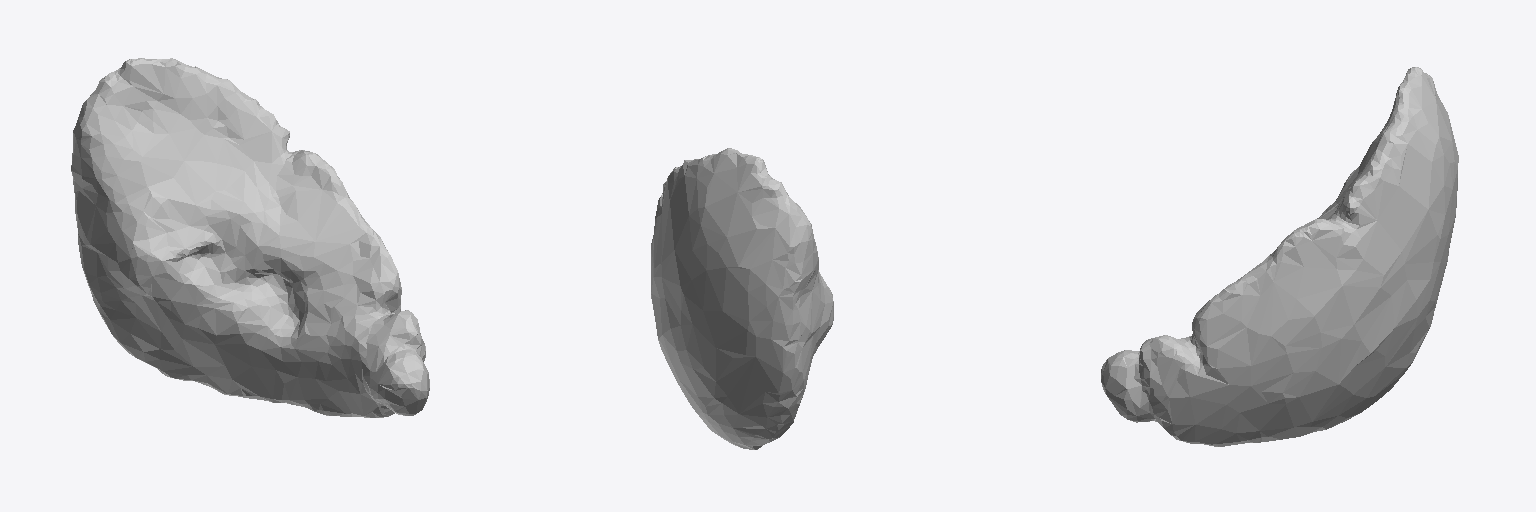
3 views of the same model, side by side, from view 1: azimuth 30°, elevation 25°; view 2: azimuth 150°, elevation 25°; view 3: azimuth 270°, elevation 25° (orthographic).
Visible parts, largest first — view 1: Polygonal_Model_5_Triangles_0; view 2: Polygonal_Model_5_Triangles_0; view 3: Polygonal_Model_5_Triangles_0.
Part boxes in pixels (x1,y1,x2,y2): Polygonal_Model_5_Triangles_0: (71,58,429,417); Polygonal_Model_5_Triangles_0: (651,148,833,449); Polygonal_Model_5_Triangles_0: (1101,67,1458,446).
Bounding box in the file's own units: 2.61 × 3.64 × 3.68.